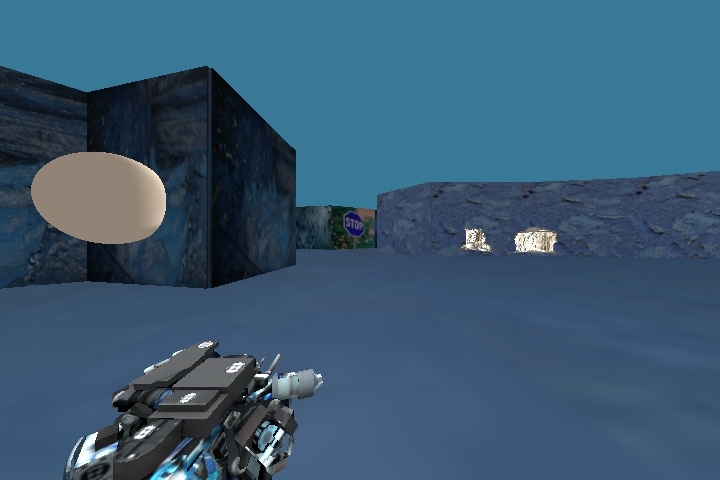formation: (511, 221, 563, 254), (455, 219, 499, 255)
stop_sign: (338, 204, 370, 241)
white_sphere: (18, 138, 175, 252)
